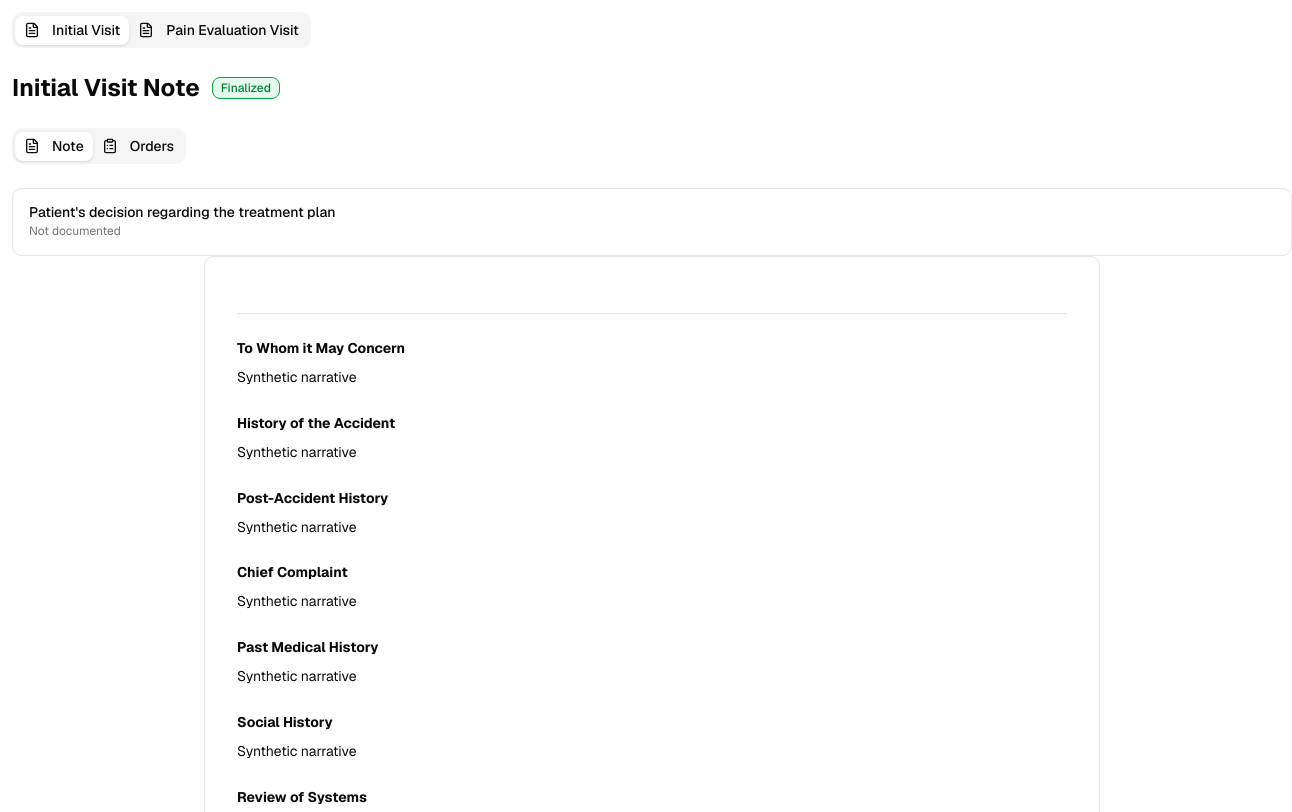
Test: blocks generation on reported read failure and retries explicitly
Click the tab "Orders" at (138, 146), box [93,132,183,160]
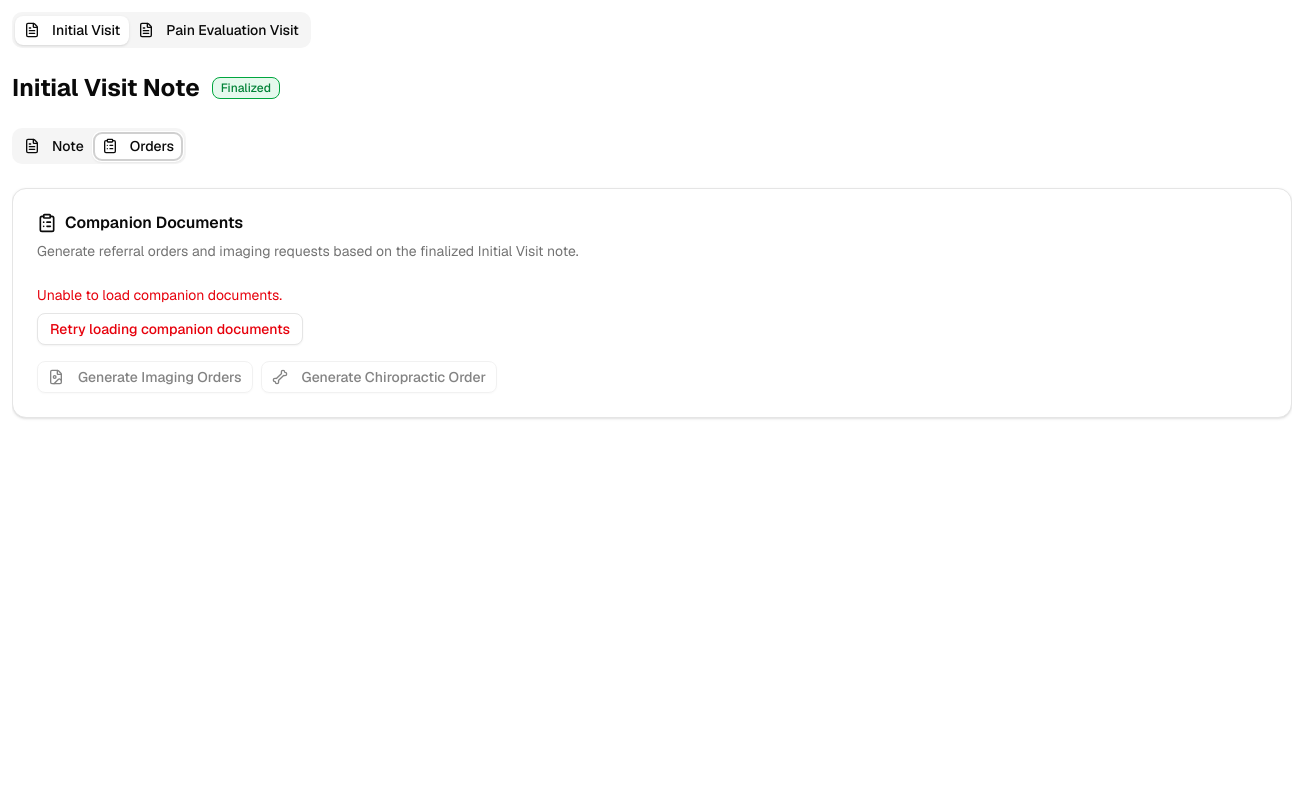
Expected: the button "Retry loading companion documents" is shown
Expected: the button "Generate Imaging Orders" is disabled, [37,361,253,393]
Click the button "Retry loading companion documents" at (170, 329), box [37,313,303,345]
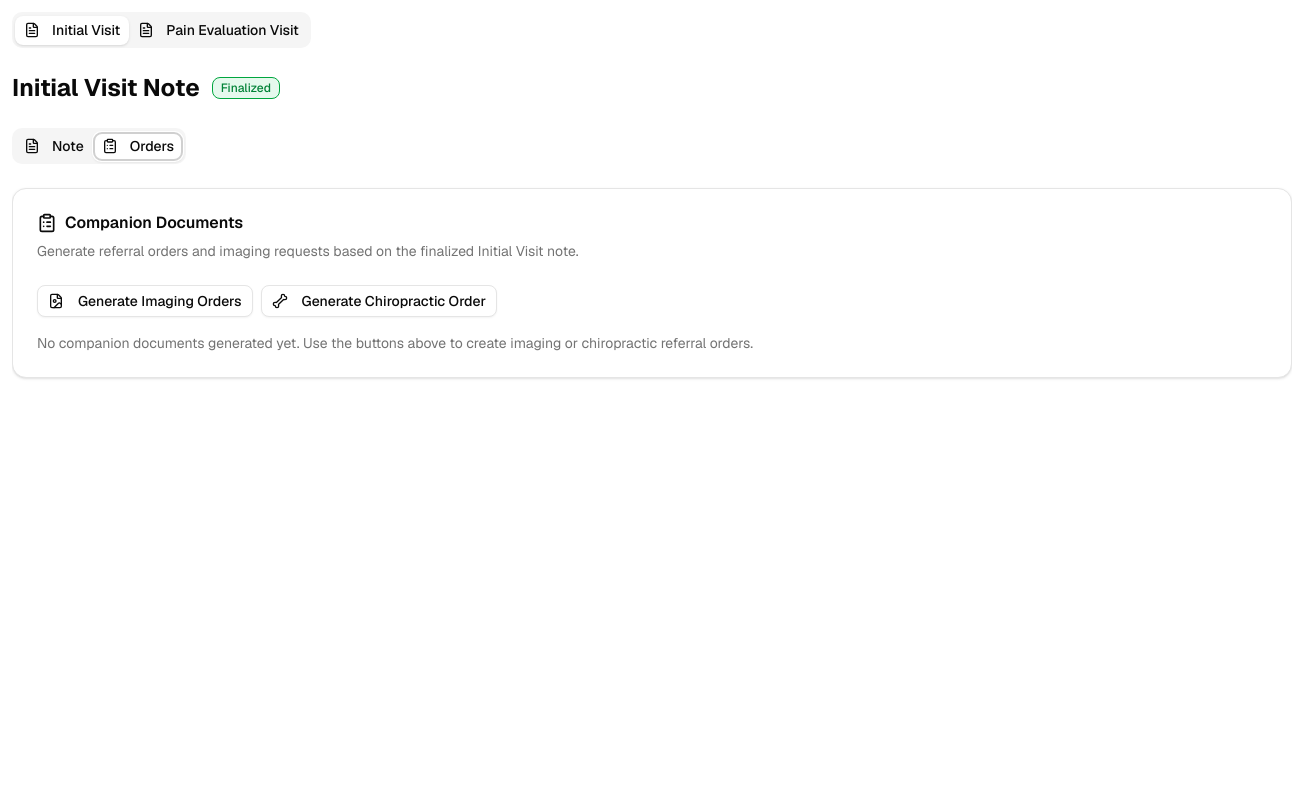
Expected: the button "Generate Imaging Orders" is enabled, [37,285,253,317]
